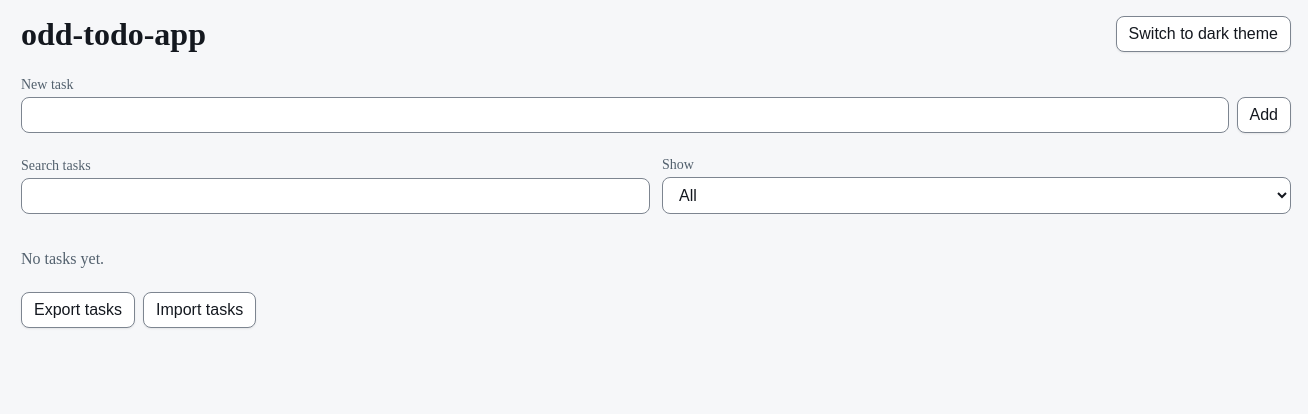
integration: filter + undo in App (filter-search S5, undo-delete S10-seam) › filtering changes only the view, never storage (S5)
The image size is (1308, 414).
Step 1. Type "Buy milk" into the field labelled "New task" → (625, 115), box [21,97,1228,133]
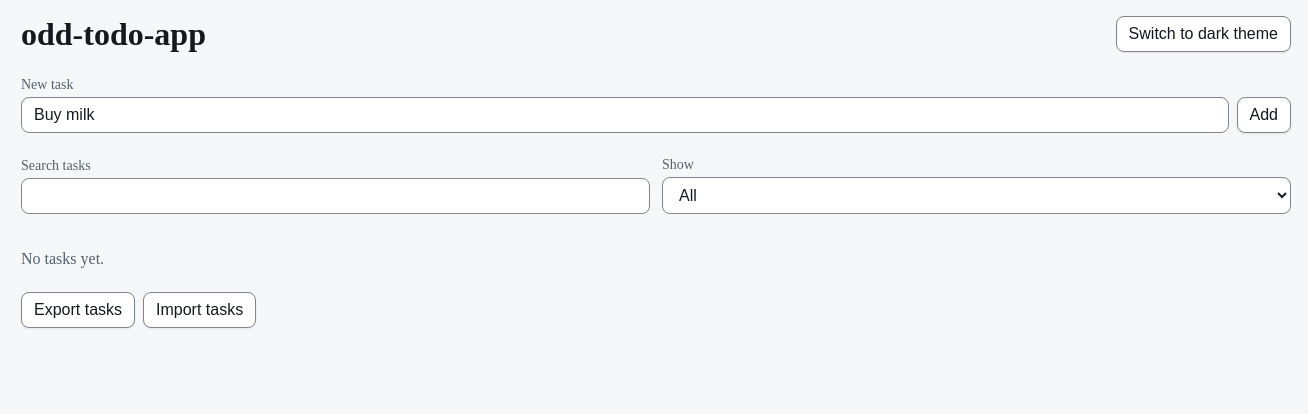
Step 2. Click the button "Add" → (1264, 115), box [1236,97,1291,133]
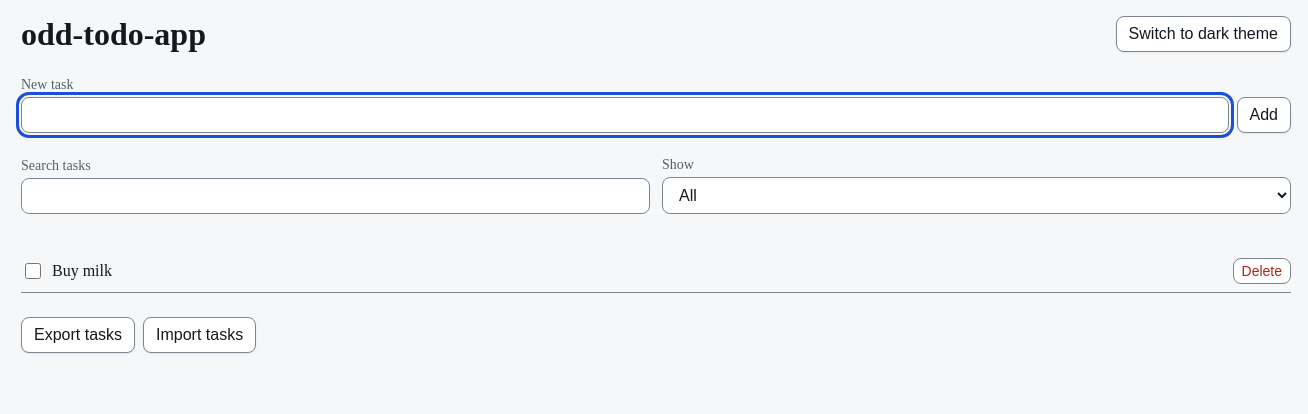
Step 3. Type "Pay rent" into the field labelled "New task" → (625, 115), box [21,97,1228,133]
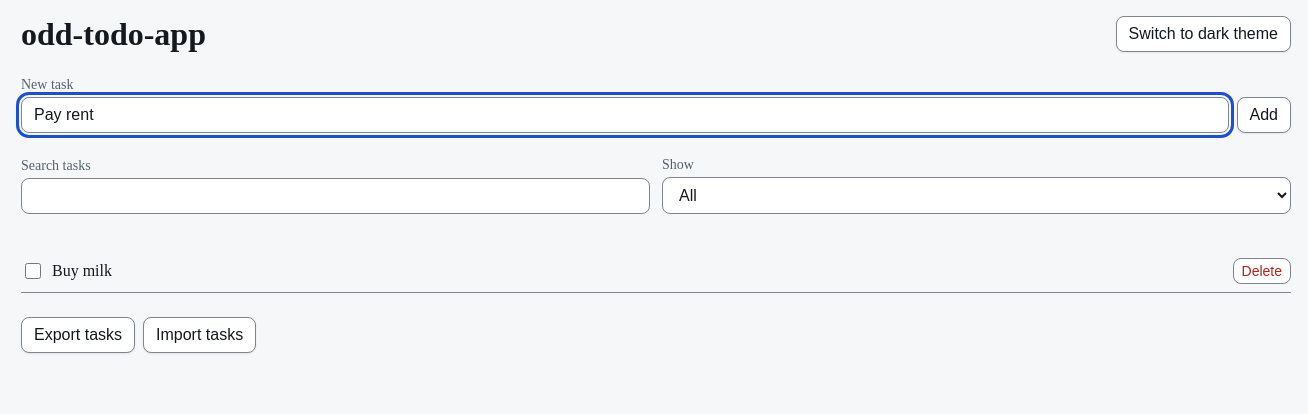
Step 4. Click the button "Add" → (1264, 115), box [1236,97,1291,133]
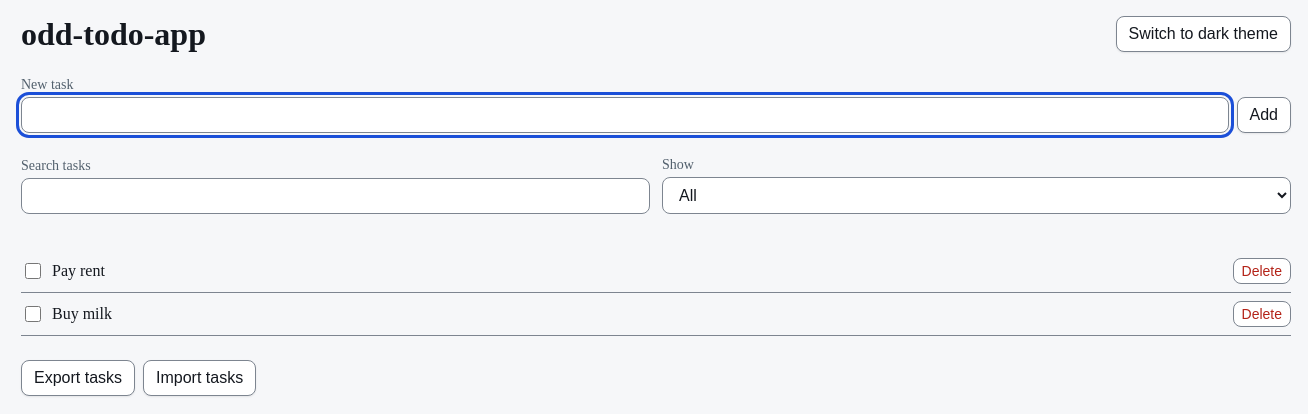
Step 5. Type "milk" into the field labelled "Search tasks" → (336, 196), box [21,178,650,214]
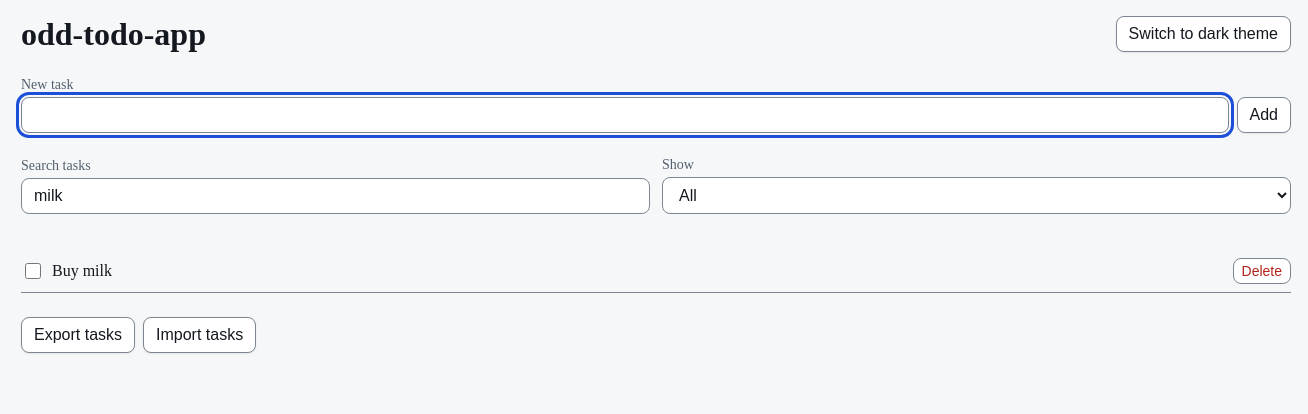
Check: the list shows "Buy milk", box [52,262,112,279]
Check: the label no longer shows "Pay rent"
